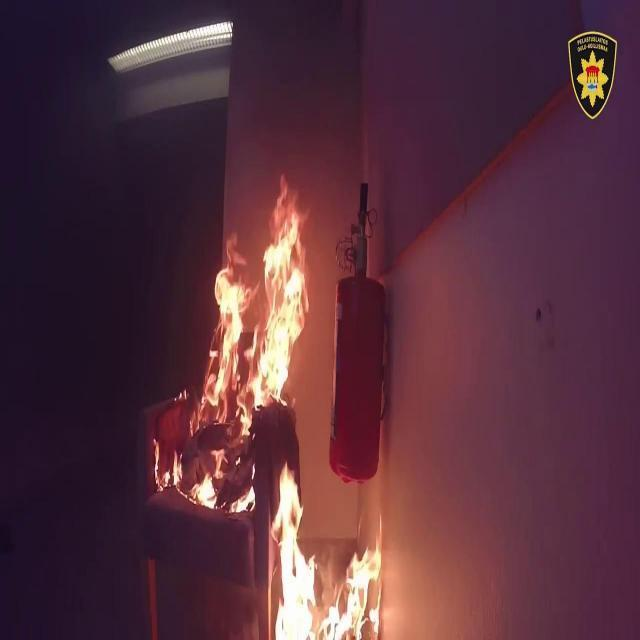Fire: (275, 471, 384, 640), (214, 202, 299, 400), (148, 450, 264, 502)
